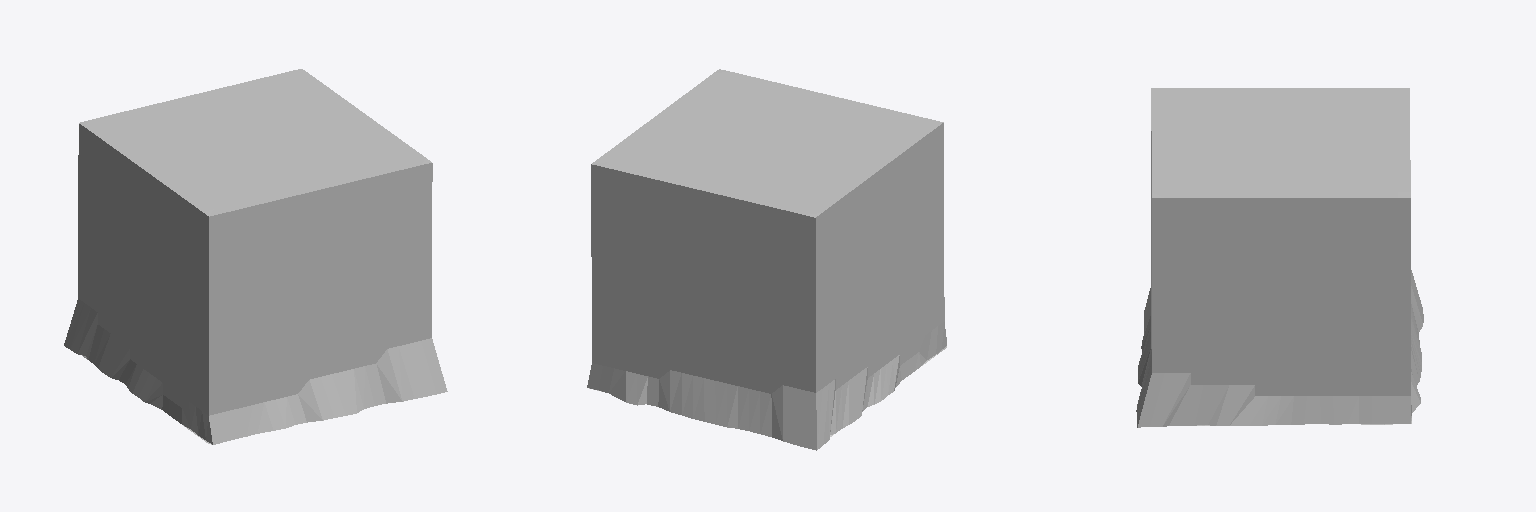
The model's file is mod0227.obj.
3 views of the same model, side by side, from view 1: azimuth 30°, elevation 25°; view 2: azimuth 150°, elevation 25°; view 3: azimuth 270°, elevation 25° (orthographic).
Parts seen in each view (by area): view 1: Box001; view 2: Box001; view 3: Box001.
Part boxes in pixels (bbox=[...]): Box001: bbox=[64, 69, 447, 444]; Box001: bbox=[587, 69, 946, 450]; Box001: bbox=[1136, 88, 1423, 427].
Size of the model in its own units: 0.5799 by 0.5221 by 0.5979.